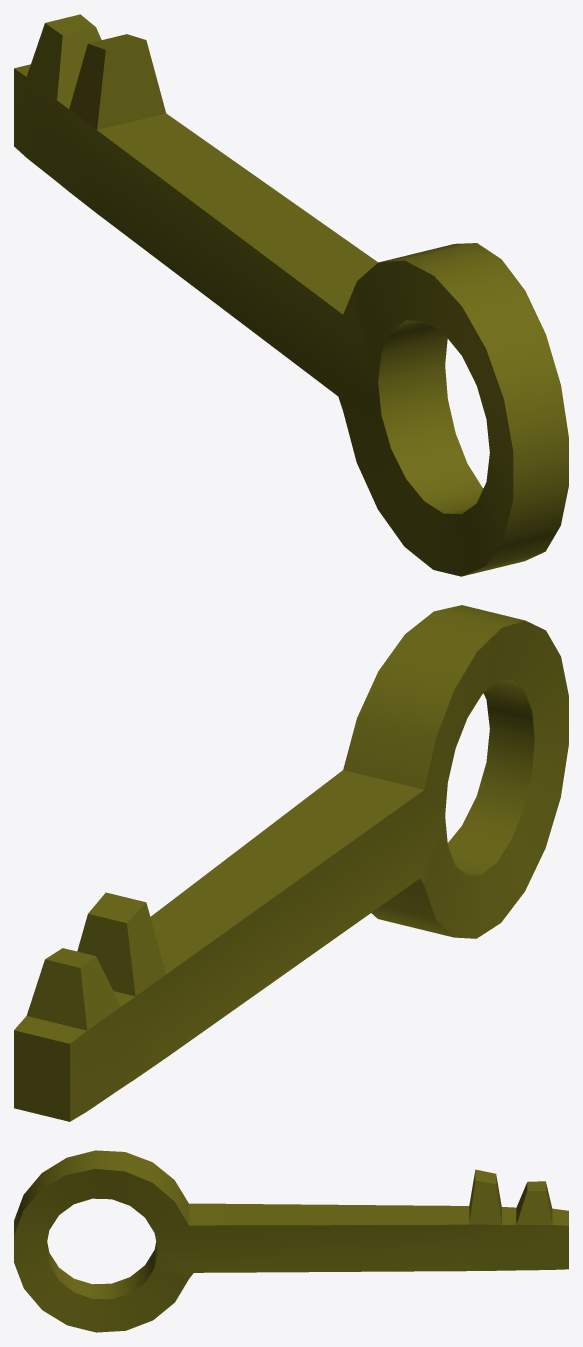
File: Key.fbx
3 views of the same model, one above another, from view 1: azimuth 30°, elevation 25°; view 2: azimuth 150°, elevation 25°; view 3: azimuth 270°, elevation 25° (orthographic). The views are drawn at different scales.
Visible parts, largest first — view 1: Cube; view 2: Cube; view 3: Cube.
Boxes of the visible parts, bbox=[...] form: Cube: bbox=[14, 14, 568, 576]; Cube: bbox=[14, 605, 568, 1121]; Cube: bbox=[14, 1150, 568, 1332].
Size of the model in its own units: 26.41 by 90.57 by 278.
